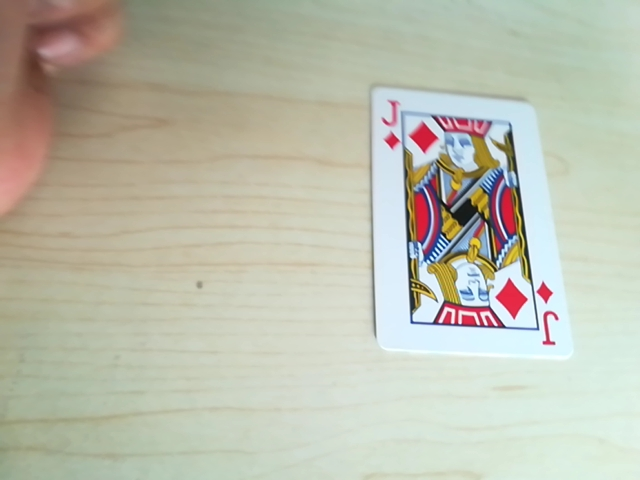fk j: (409, 292, 556, 345), (380, 98, 506, 158)
